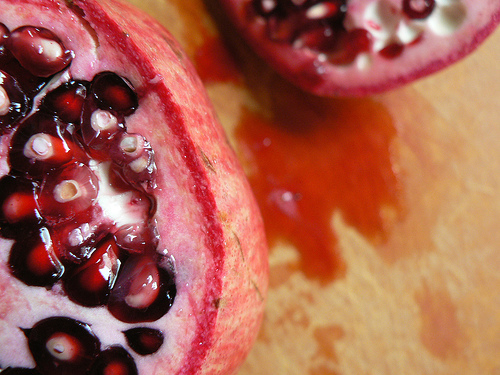pomogranate: (1, 2, 269, 374), (220, 0, 499, 99), (108, 254, 177, 322)
